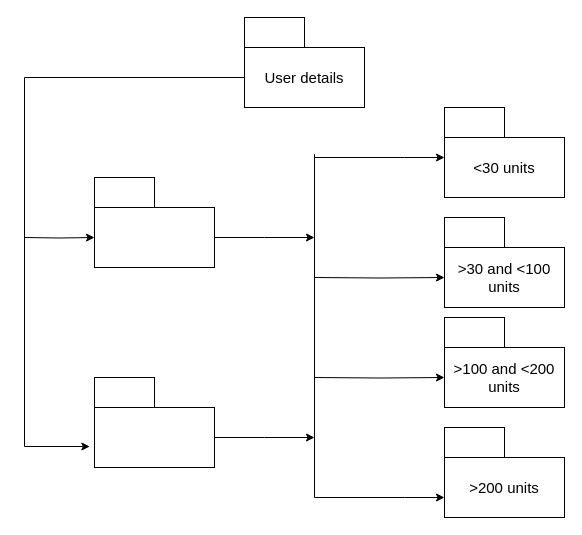
The diagram is 582 pixels wide and 535 high, and some of its shapes have lost their labels. The box of each missing label's shape, as (x1, y1, x2, y2) in pixels:
Rural: (94, 406, 214, 468)
Urban: (94, 206, 214, 268)
